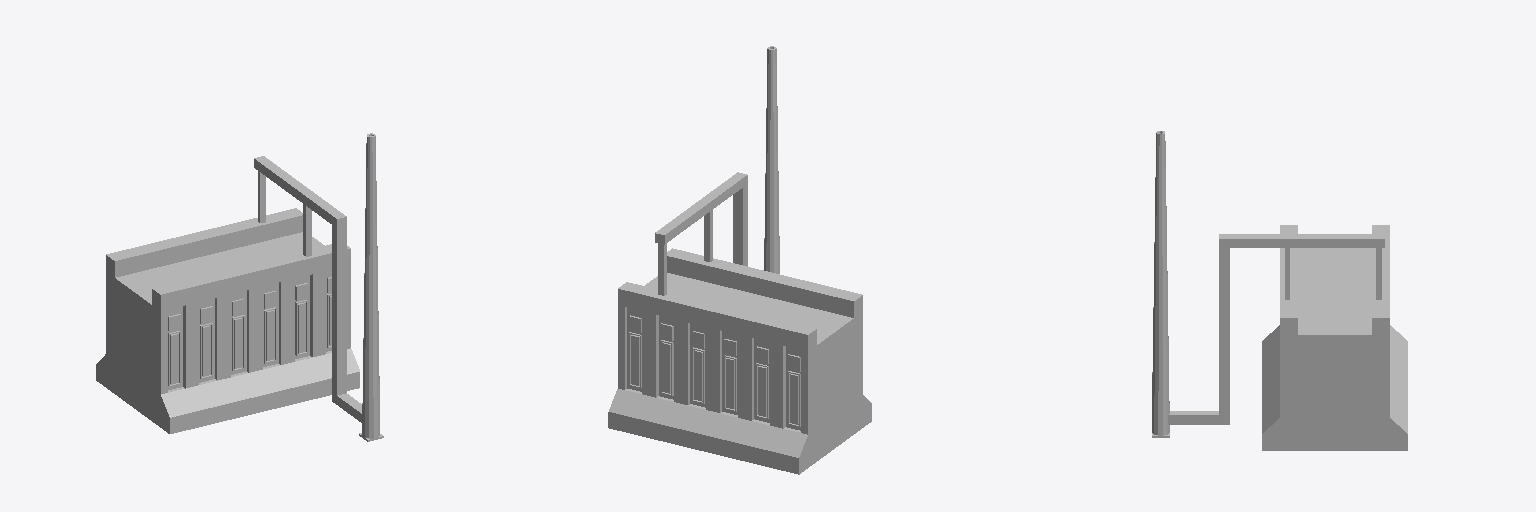
The model's file is coke_oven_battery_mirrored.obj.
3 views of the same model, side by side, from view 1: azimuth 30°, elevation 25°; view 2: azimuth 150°, elevation 25°; view 3: azimuth 270°, elevation 25° (orthographic).
Parts seen in each view (by area): view 1: cube, tube; view 2: cube, tube; view 3: cube, tube.
Part boxes in pixels (x1,y1,x2,y2): cube: (96, 156, 383, 441); tube: (362, 133, 379, 438); cube: (608, 172, 871, 474); tube: (764, 46, 779, 273); cube: (1152, 225, 1407, 450); tube: (1152, 131, 1169, 435).
Size of the model in its own units: 12 by 18.12 by 14.